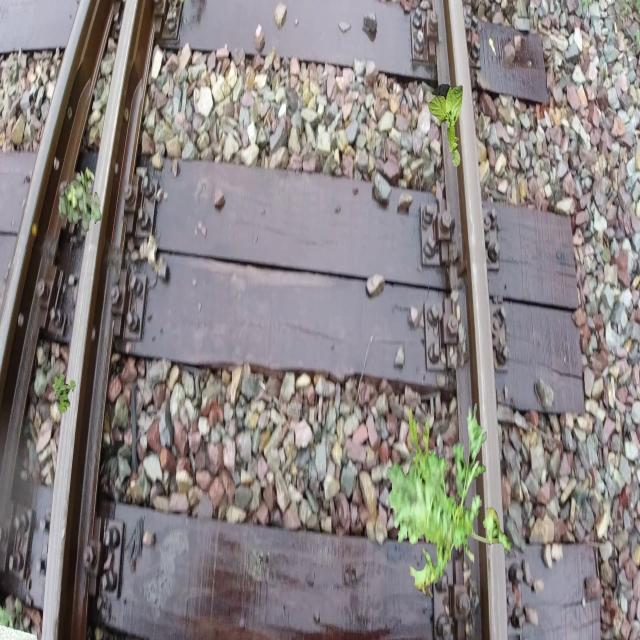Plant: (386, 403, 511, 599), (428, 84, 464, 168), (58, 166, 101, 232), (52, 373, 76, 414)
